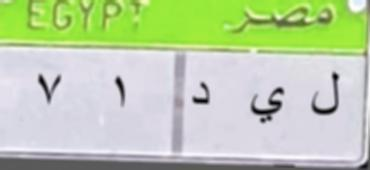1: (108, 70, 134, 112)
7: (35, 67, 70, 110)
daal: (186, 74, 213, 114)
laam: (306, 64, 346, 124)
yaa: (245, 84, 288, 126)
